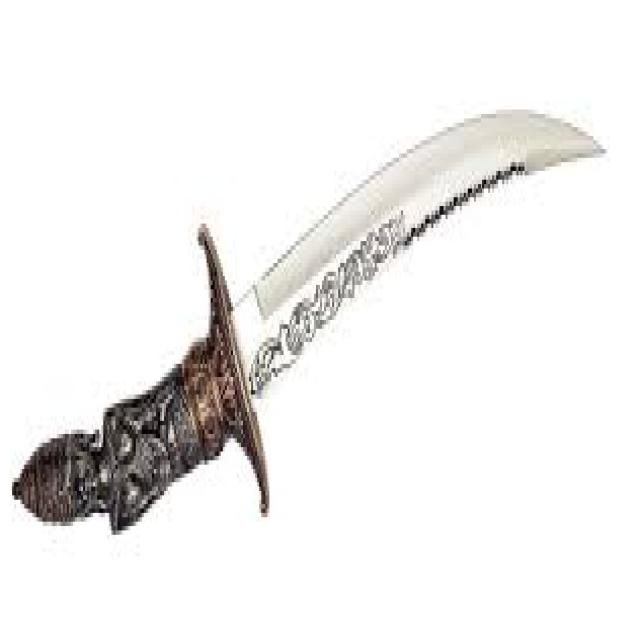Gun: (0, 83, 610, 561)
